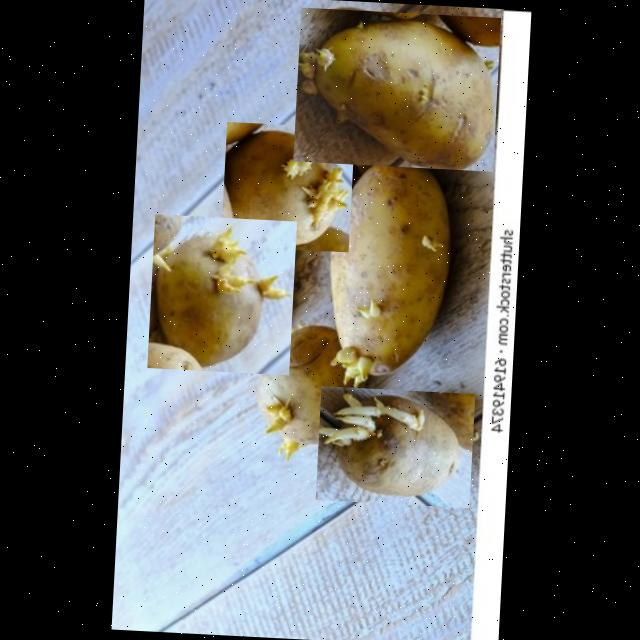Sprouted potato: (292, 8, 500, 172), (318, 152, 456, 396), (146, 214, 296, 376), (248, 315, 372, 476), (314, 386, 474, 508), (220, 121, 354, 252)
